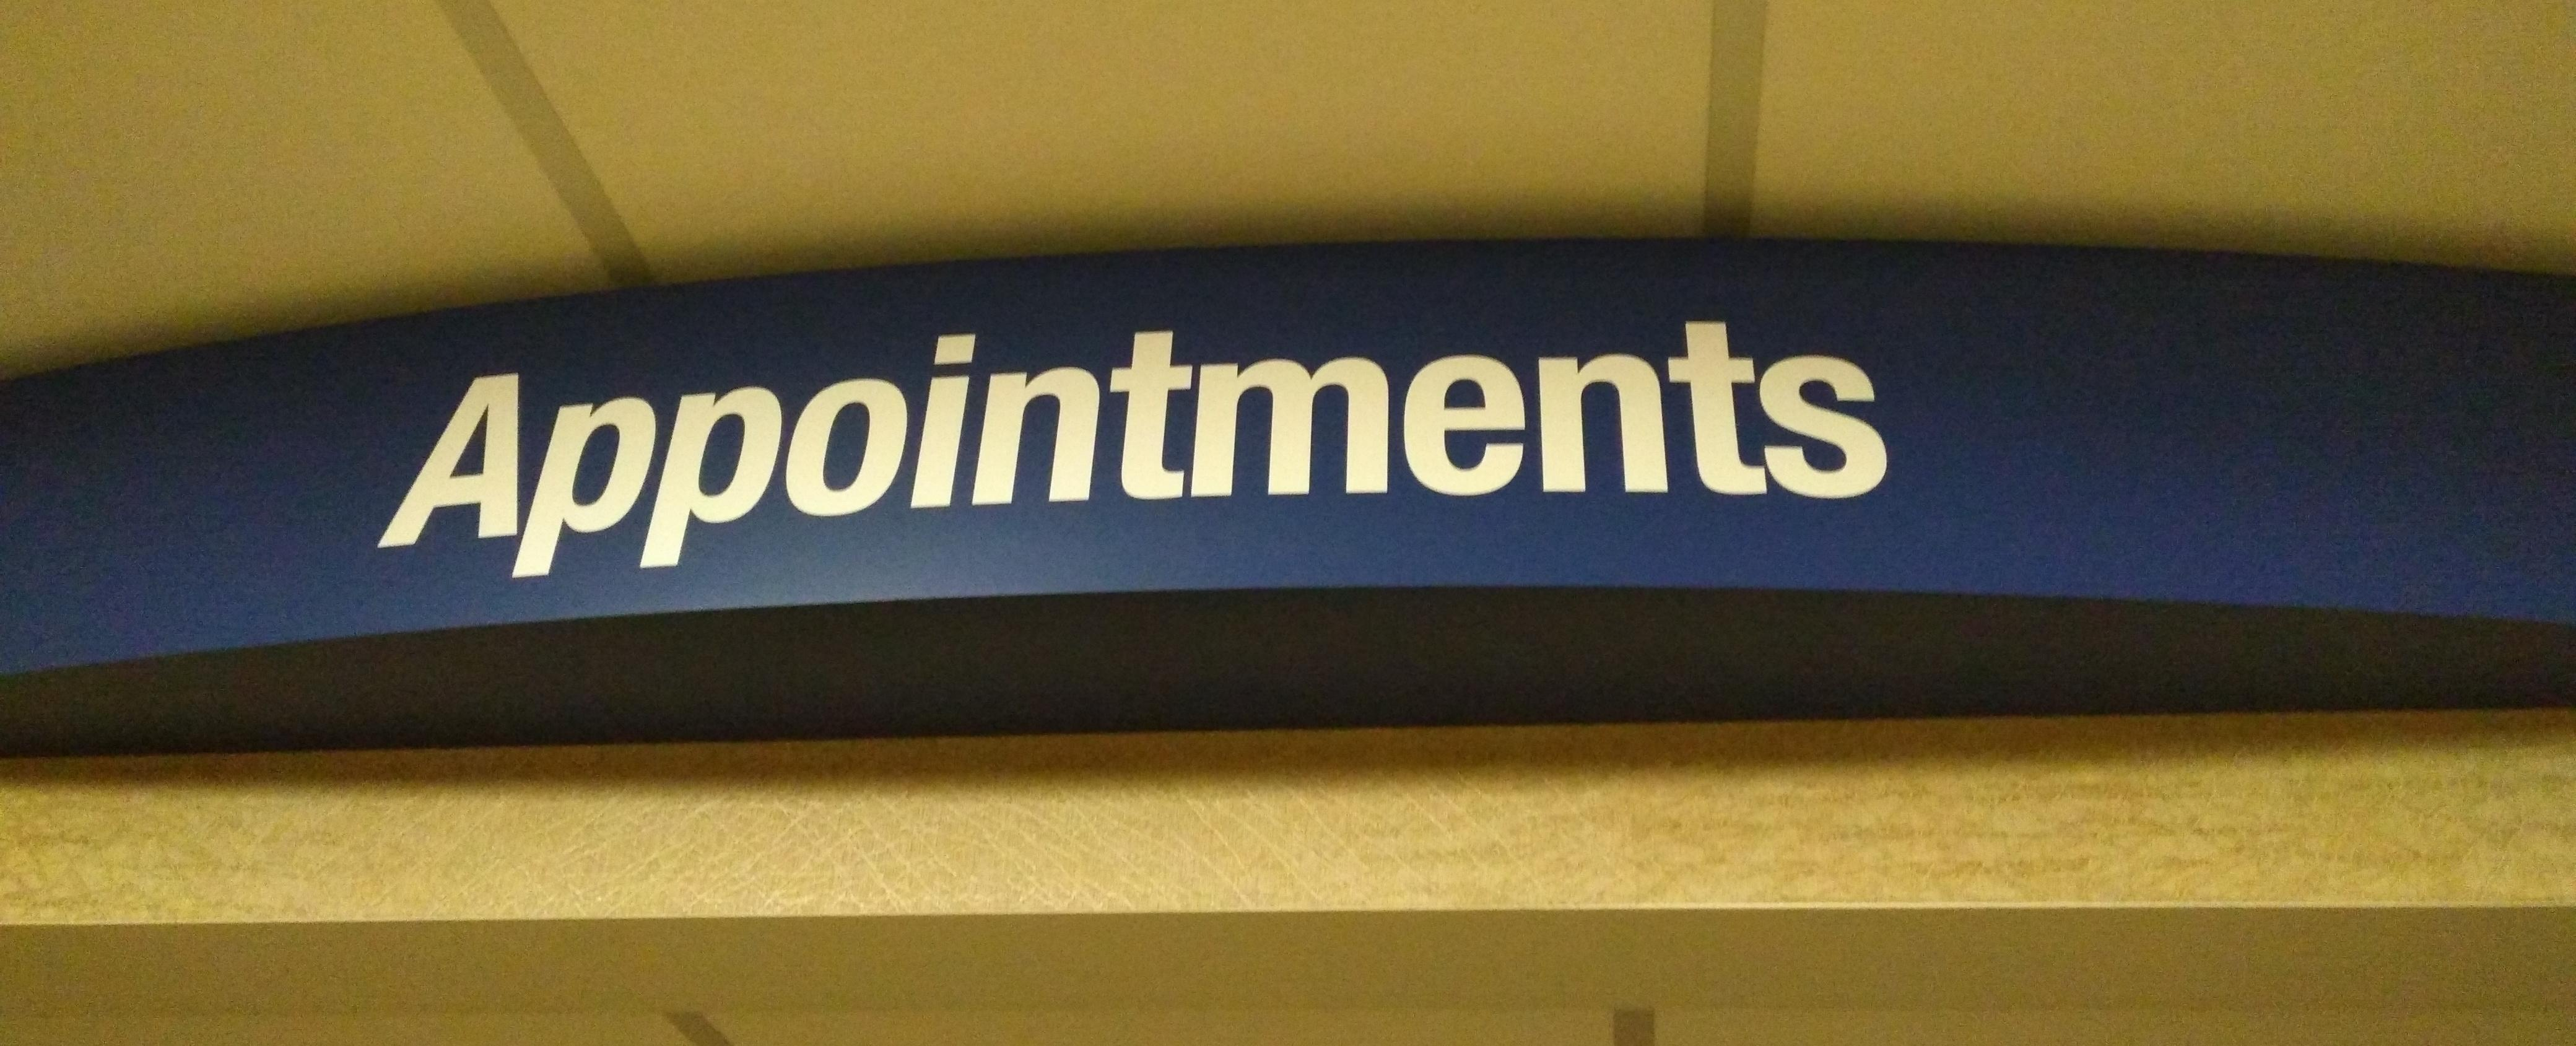sign: (2, 236, 2564, 754)
